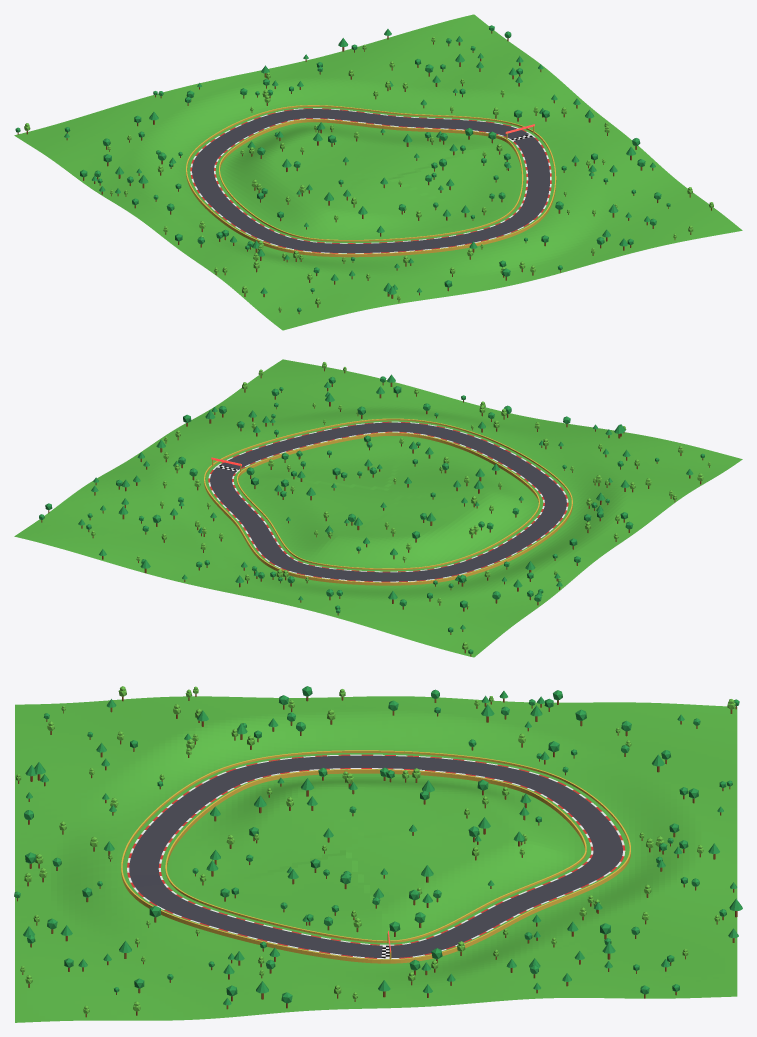
Rendered from level_1.glb.
The picture shows the model from 3 angles, top to bottom: view 1: azimuth 30°, elevation 25°; view 2: azimuth 150°, elevation 25°; view 3: azimuth 270°, elevation 25°; orthographic projection. The views are drawn at different scales.
Parts seen in each view (by area): view 1: Terrain, Road, Props_leaf, Wall_L, Props_leaf2, Wall_R, Props_trunk, Shoulder_L, Curb_L, Shoulder_R, Curb_R; view 2: Terrain, Road, Props_leaf, Wall_L, Props_leaf2, Wall_R, Props_trunk, Shoulder_L, Curb_L, Shoulder_R, Curb_R; view 3: Terrain, Road, Props_leaf, Wall_L, Props_leaf2, Wall_R, Props_trunk, Shoulder_L, Curb_L, Shoulder_R, Curb_R.
Part boxes in pixels (x1,y1,x2,y2): Terrain: (14, 14, 742, 330); Road: (192, 109, 549, 252); Props_leaf: (15, 25, 670, 311); Wall_L: (186, 105, 556, 257); Props_leaf2: (24, 36, 713, 310); Wall_R: (219, 119, 523, 241); Props_trunk: (17, 31, 711, 314); Shoulder_L: (187, 107, 554, 251); Curb_L: (190, 108, 551, 253); Shoulder_R: (215, 120, 526, 242); Curb_R: (214, 118, 528, 243); Terrain: (14, 359, 742, 657); Road: (210, 422, 566, 581); Props_leaf: (39, 374, 704, 654); Wall_L: (204, 418, 572, 585); Props_leaf2: (91, 362, 710, 649); Wall_R: (237, 432, 539, 570); Props_trunk: (41, 368, 709, 656); Shoulder_L: (205, 420, 571, 579); Curb_L: (208, 421, 568, 582); Shoulder_R: (233, 434, 543, 571); Curb_R: (232, 431, 544, 572); Terrain: (15, 696, 737, 1022); Road: (129, 755, 622, 957); Props_leaf: (14, 686, 742, 1005); Wall_L: (121, 750, 630, 963); Props_leaf2: (16, 686, 735, 1013); Wall_R: (165, 769, 586, 942); Props_trunk: (17, 694, 737, 1017); Shoulder_L: (122, 753, 629, 958); Curb_L: (127, 754, 625, 958); Shoulder_R: (161, 772, 591, 944); Curb_R: (158, 768, 593, 945).
Bounding box in the file's own units: 390 × 26.98 × 395.
